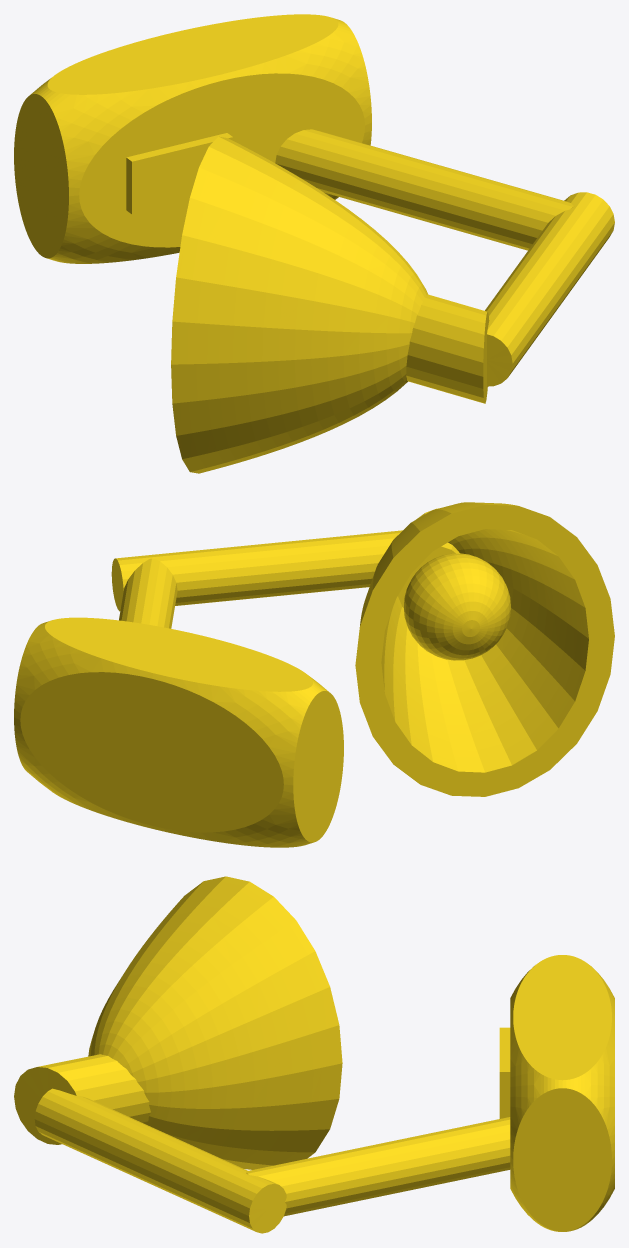
Rendered from tinker.obj.
The picture shows the model from 3 angles, top to bottom: view 1: azimuth 30°, elevation 25°; view 2: azimuth 150°, elevation 25°; view 3: azimuth 270°, elevation 25°; orthographic projection. The views are drawn at different scales.
Parts seen in each view (by area): view 1: obj_0; view 2: obj_0; view 3: obj_0.
Boxes of the visible parts, x1,y1,x2,y2 form: obj_0: [14, 14, 614, 473]; obj_0: [14, 502, 614, 847]; obj_0: [14, 876, 614, 1233].
Bounding box in the file's own units: 49.01 × 30 × 57.36.
